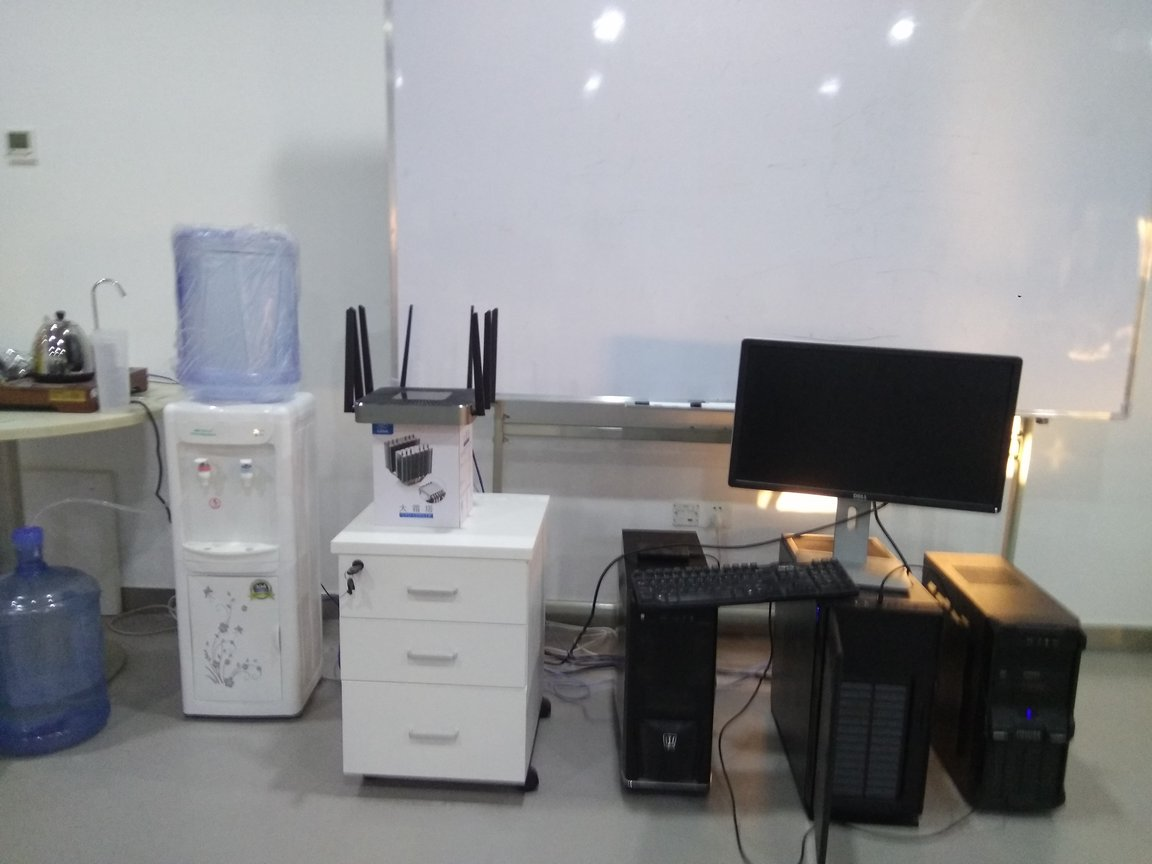computer: (776, 524, 940, 851), (922, 547, 1079, 822), (621, 523, 717, 806)
drawer chest: (333, 481, 555, 803)
monitor: (727, 330, 1021, 602)
scuttlebutt: (1, 523, 124, 770), (168, 226, 309, 401)
water dispenser: (157, 389, 332, 736)
